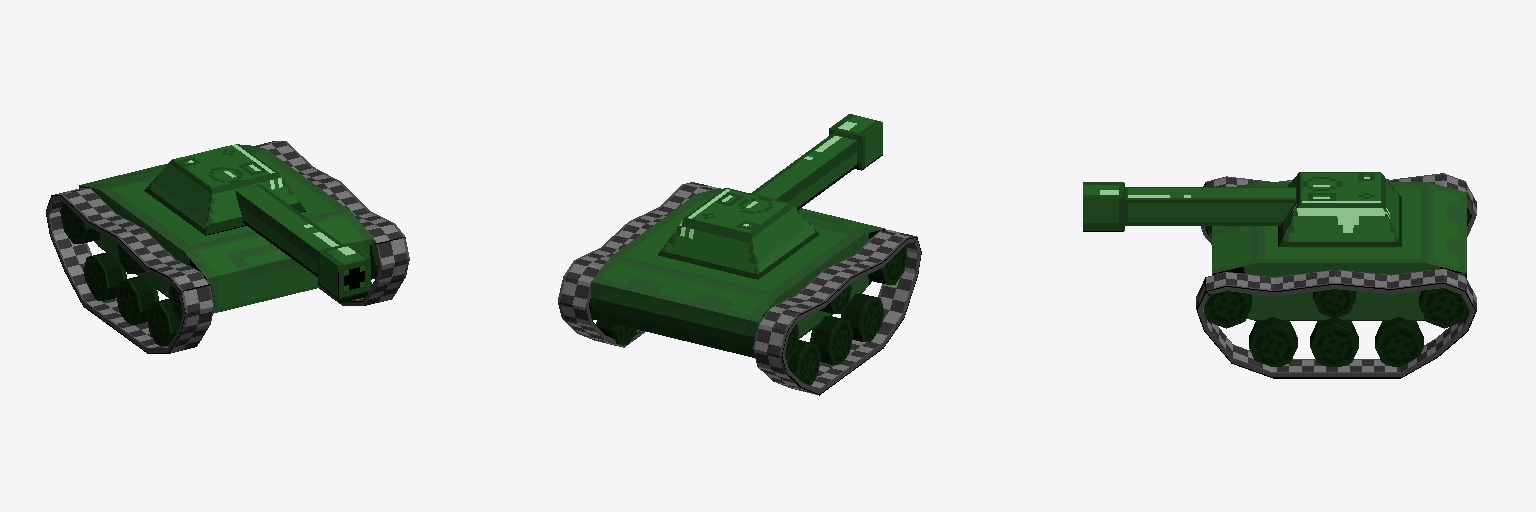
The picture shows the model from 3 angles: view 1: azimuth 30°, elevation 25°; view 2: azimuth 150°, elevation 25°; view 3: azimuth 270°, elevation 25°; orthographic projection.
Parts seen in each view (by area): view 1: pCube6, textureEditorIsolateSelectSet pCube6; view 2: pCube6, textureEditorIsolateSelectSet pCube6; view 3: pCube6, textureEditorIsolateSelectSet pCube6.
Part boxes in pixels (bbox=[...]): pCube6: bbox=[46, 141, 409, 353]; textureEditorIsolateSelectSet pCube6: bbox=[60, 202, 378, 345]; pCube6: bbox=[558, 114, 921, 395]; textureEditorIsolateSelectSet pCube6: bbox=[589, 245, 906, 385]; pCube6: bbox=[1083, 172, 1476, 378]; textureEditorIsolateSelectSet pCube6: bbox=[1204, 210, 1469, 366].
Size of the model in its own units: 3.52 by 2.04 by 5.35.
Materials: 1 (1 with a texture image).